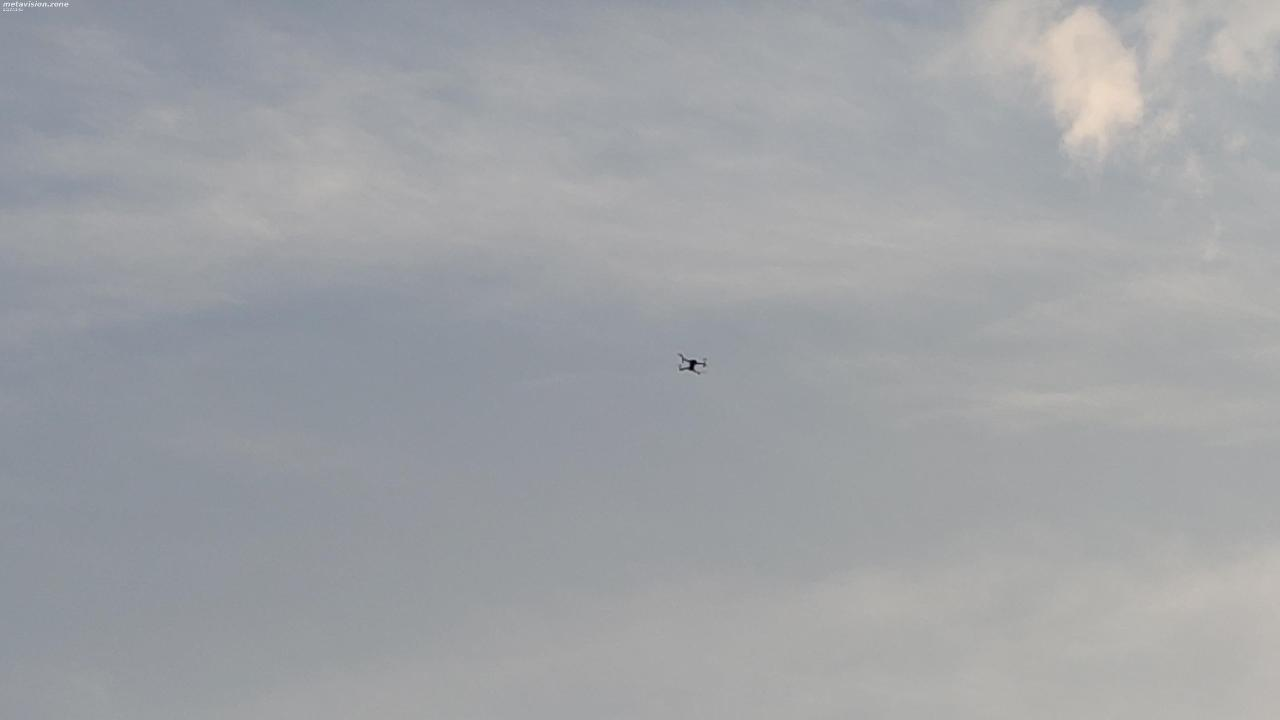drone: (665, 337, 724, 391)
